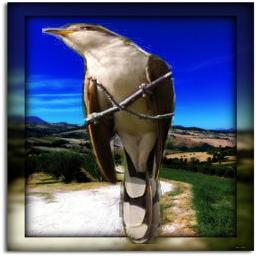Cuckoo: (42, 24, 176, 245)
